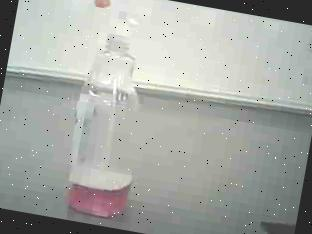hazard: (42, 0, 183, 233)
